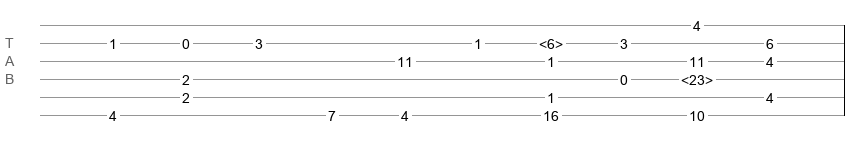0: (182, 36, 190, 46), (620, 72, 628, 82)
1: (109, 36, 117, 46), (474, 36, 482, 46), (547, 90, 555, 100), (547, 54, 555, 64)
10: (689, 108, 705, 118)
11: (397, 54, 413, 64), (689, 54, 705, 64)
16: (543, 108, 559, 118)
2: (182, 90, 190, 100), (182, 72, 190, 82)
3: (255, 36, 263, 46), (620, 36, 628, 46)
4: (109, 108, 117, 118), (401, 108, 409, 118), (693, 18, 701, 28), (766, 90, 774, 100), (766, 54, 774, 64)
6: (766, 36, 774, 46)
7: (328, 108, 336, 118)
harmonic: (681, 72, 713, 82), (539, 36, 563, 46)
